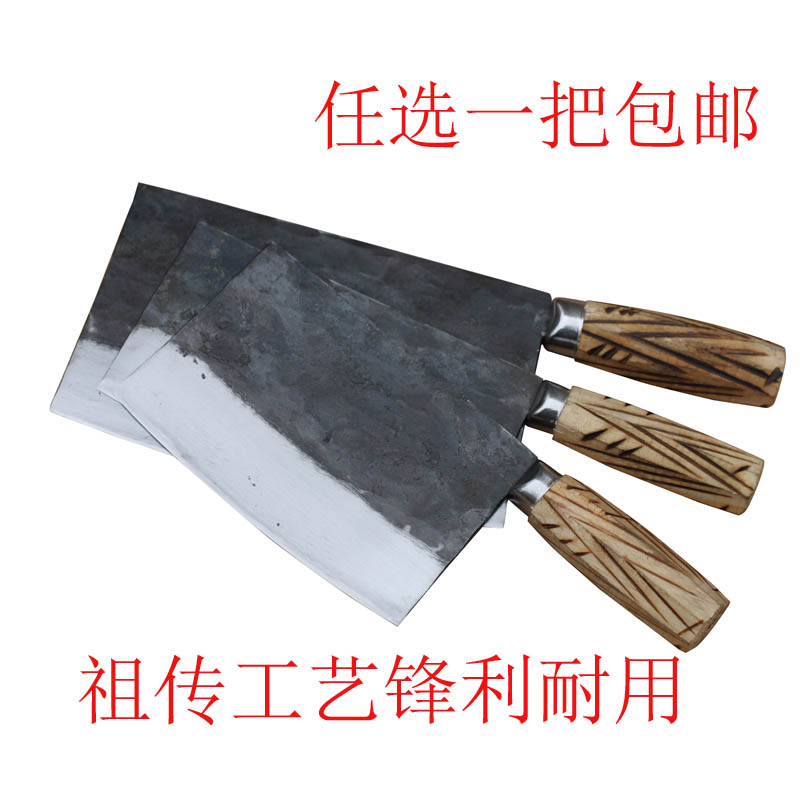knief: (82, 179, 753, 633)
